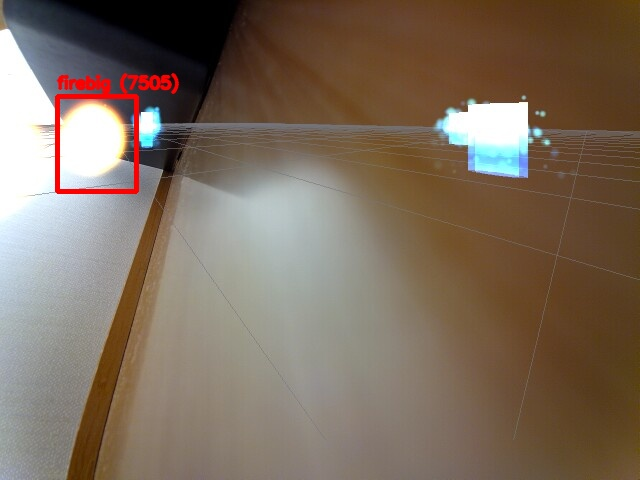firebig: (57, 96, 136, 191)
